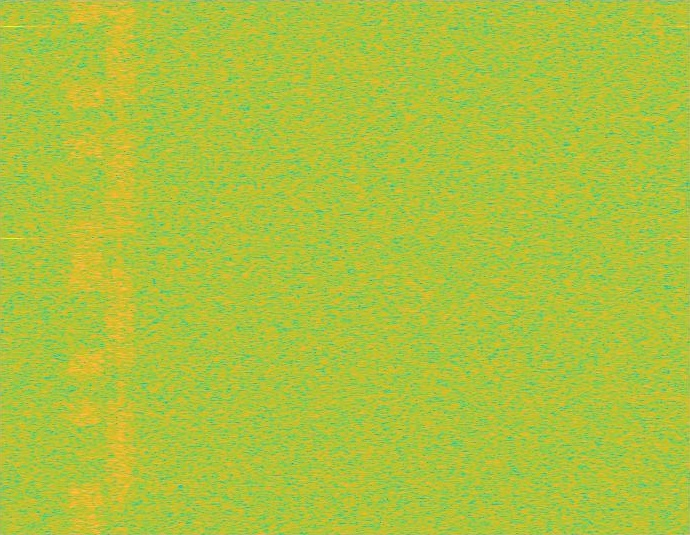5G: (104, 0, 138, 534)
DSSS: (118, 0, 123, 534)
LTE: (69, 0, 104, 534)
Radar: (6, 0, 20, 534)
